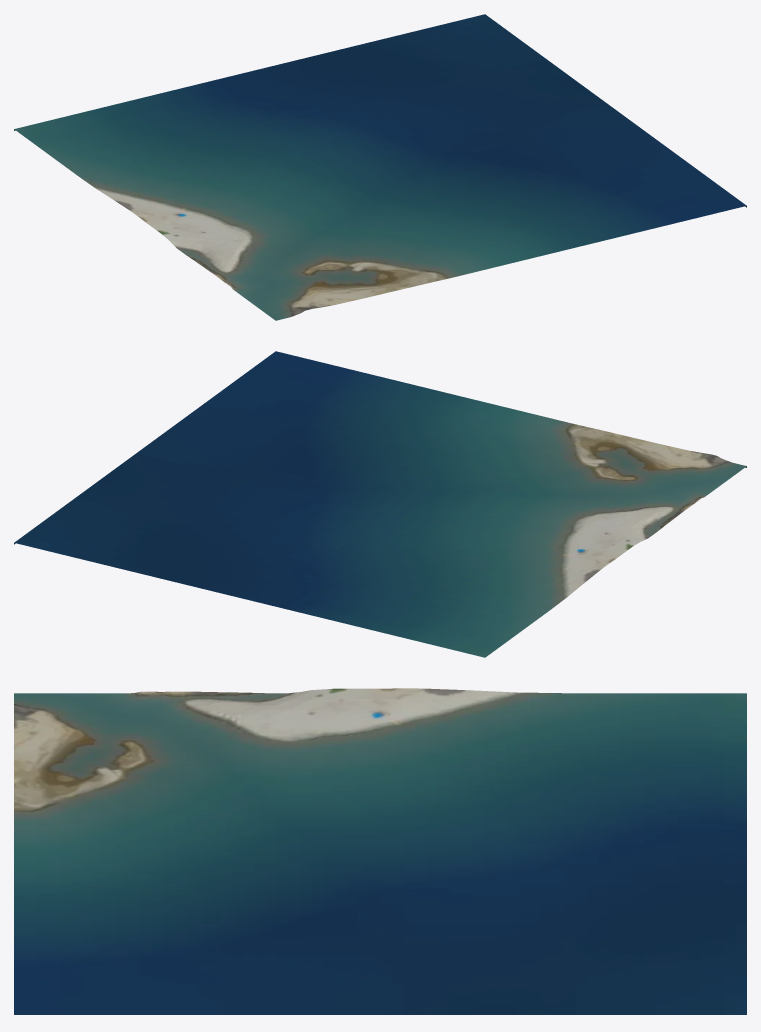
3 views of the same model, one above another, from view 1: azimuth 30°, elevation 25°; view 2: azimuth 150°, elevation 25°; view 3: azimuth 270°, elevation 25° (orthographic). The views are drawn at different scales.
Bounding box in the file's own units: 250 × 2.81 × 241.
Materials: 1 (1 with a texture image).
